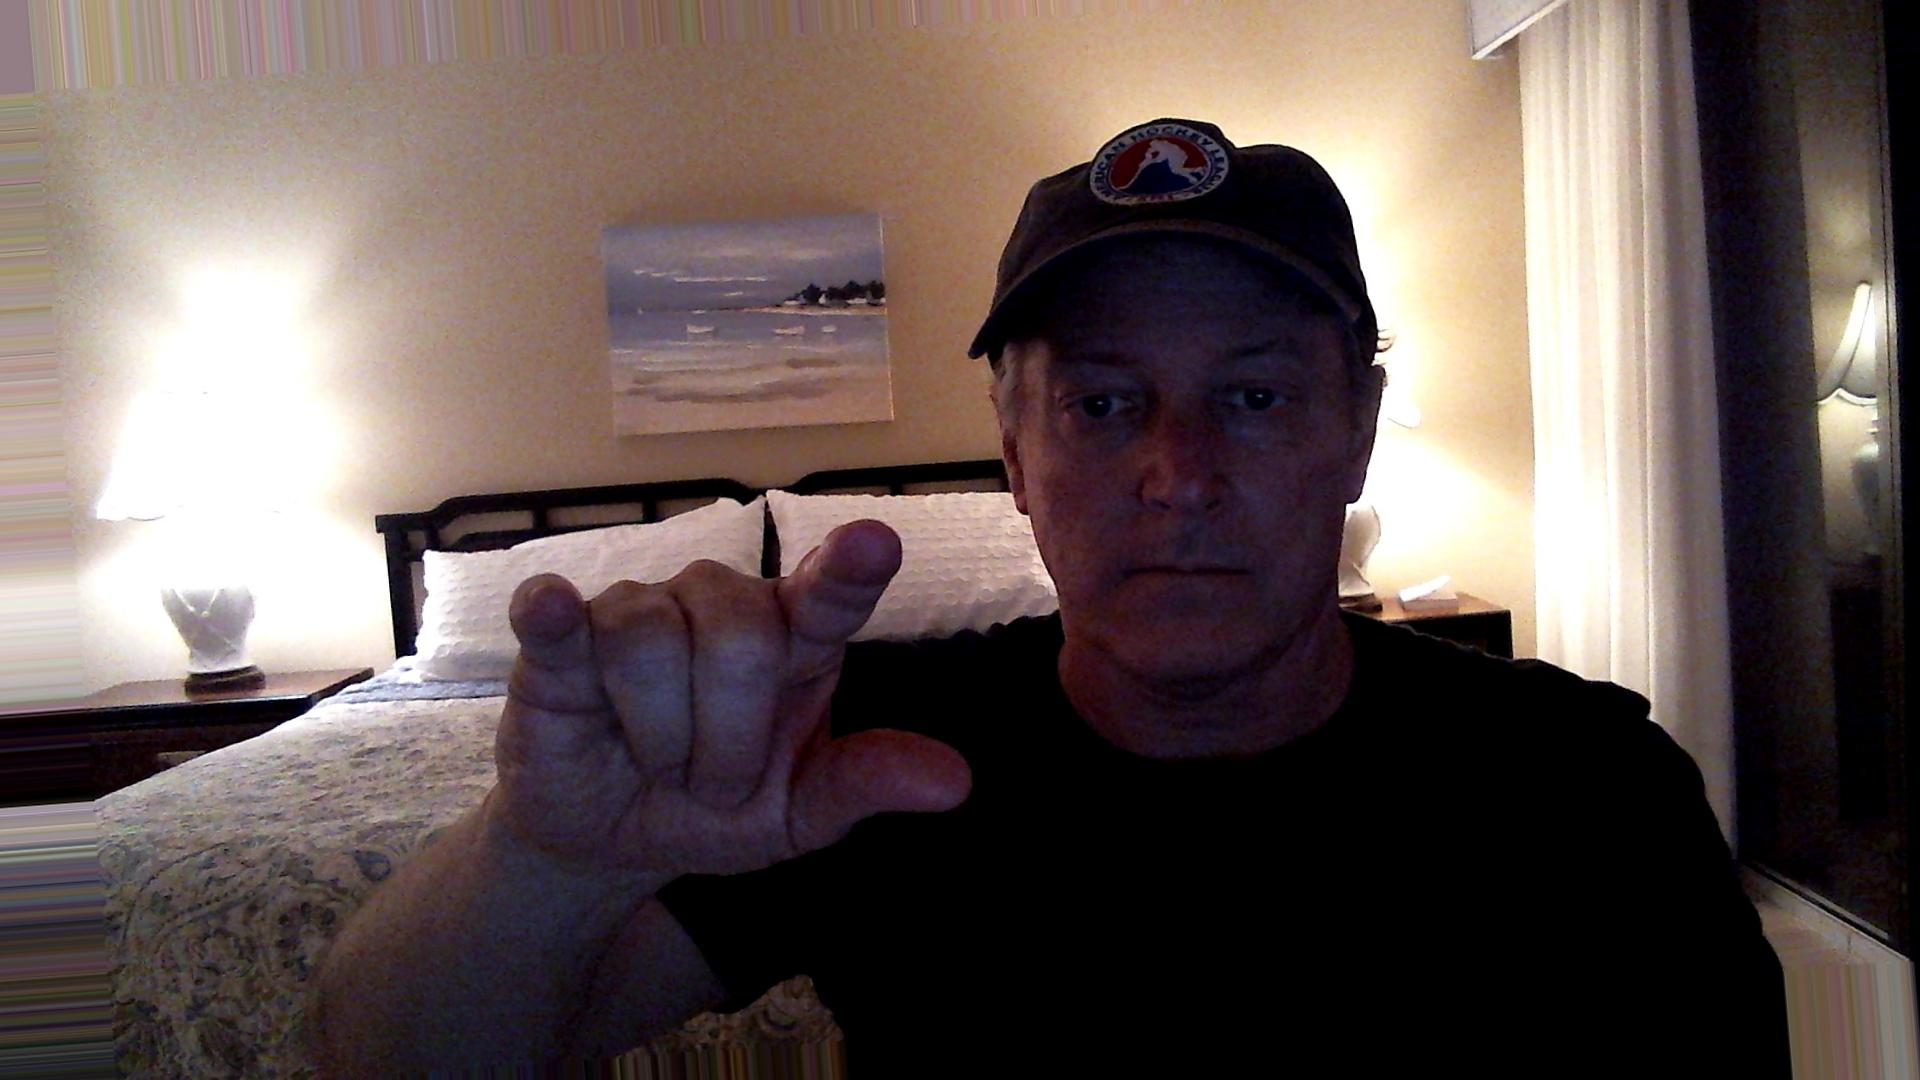I Love You: (473, 498, 1027, 876)
